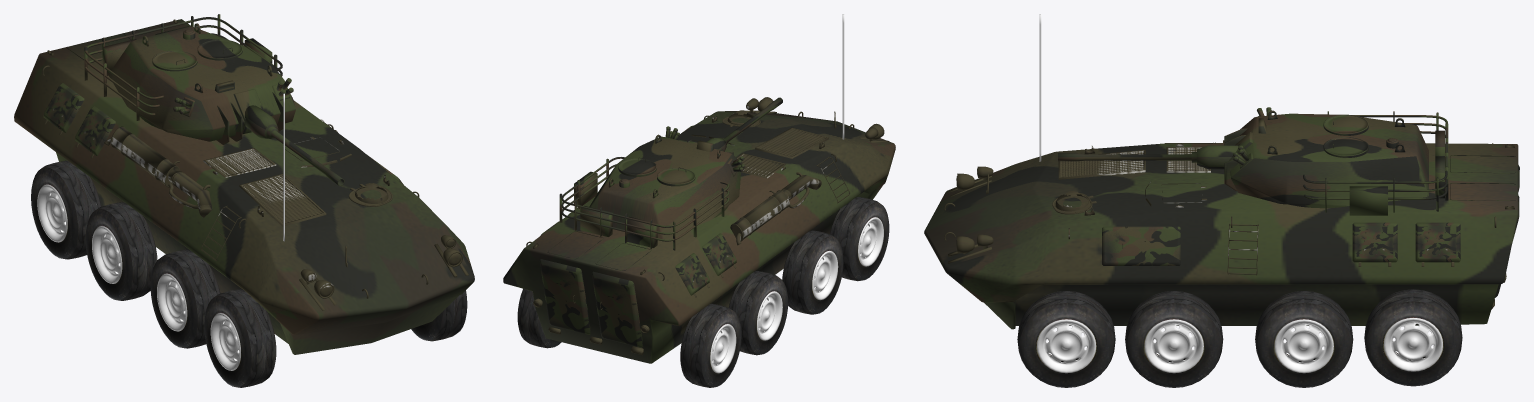
The model's file is lav-25.fbx.
3 views of the same model, side by side, from view 1: azimuth 30°, elevation 25°; view 2: azimuth 150°, elevation 25°; view 3: azimuth 270°, elevation 25° (orthographic). The views are drawn at different scales.
Visible parts, largest first — view 1: chassis-rb-convexhull, chassis_detail, turret-rb-convexhull-hinge, turret_detail, rtire_0-rb-chamferedCylinder-wheel, rtire_2-rb-chamferedCylinder-wheel, rtire_3-rb-chamferedCylinder-wheel, rtire_1-rb-chamferedCylinder-wheel, canon-rb-convexhull-hinge, ltire_0-rb-chamferedCylinder-wheel; view 2: chassis-rb-convexhull, chassis_detail, turret-rb-convexhull-hinge, turret_detail, rtire_3-rb-chamferedCylinder-wheel, rtire_1-rb-chamferedCylinder-wheel, rtire_2-rb-chamferedCylinder-wheel, rtire_0-rb-chamferedCylinder-wheel, ltire_3-rb-chamferedCylinder-wheel, canon-rb-convexhull-hinge, antena; view 3: chassis-rb-convexhull, turret-rb-convexhull-hinge, chassis_detail, ltire_3-rb-chamferedCylinder-wheel, ltire_0-rb-chamferedCylinder-wheel, ltire_2-rb-chamferedCylinder-wheel, ltire_1-rb-chamferedCylinder-wheel, turret_detail, canon-rb-convexhull-hinge.
Part boxes in pixels (x1=…): chassis-rb-convexhull: x1=14, y1=19, x2=474, y2=354; chassis_detail: x1=42, y1=19, x2=468, y2=310; turret-rb-convexhull-hinge: x1=108, y1=26, x2=295, y2=141; turret_detail: x1=84, y1=14, x2=293, y2=144; rtire_0-rb-chamferedCylinder-wheel: x1=204, y1=289, x2=276, y2=387; rtire_2-rb-chamferedCylinder-wheel: x1=85, y1=202, x2=157, y2=300; rtire_3-rb-chamferedCylinder-wheel: x1=31, y1=160, x2=101, y2=259; rtire_1-rb-chamferedCylinder-wheel: x1=150, y1=249, x2=220, y2=348; canon-rb-convexhull-hinge: x1=244, y1=105, x2=344, y2=185; ltire_0-rb-chamferedCylinder-wheel: x1=411, y1=290, x2=467, y2=341; chassis-rb-convexhull: x1=503, y1=111, x2=895, y2=363; chassis_detail: x1=526, y1=97, x2=889, y2=355; turret-rb-convexhull-hinge: x1=589, y1=136, x2=741, y2=239; turret_detail: x1=559, y1=126, x2=745, y2=250; rtire_3-rb-chamferedCylinder-wheel: x1=680, y1=303, x2=741, y2=387; rtire_1-rb-chamferedCylinder-wheel: x1=782, y1=230, x2=843, y2=314; rtire_2-rb-chamferedCylinder-wheel: x1=729, y1=271, x2=788, y2=355; rtire_0-rb-chamferedCylinder-wheel: x1=830, y1=197, x2=889, y2=281; ltire_3-rb-chamferedCylinder-wheel: x1=517, y1=288, x2=561, y2=348; canon-rb-convexhull-hinge: x1=707, y1=97, x2=782, y2=151; antena: x1=842, y1=14, x2=844, y2=139; chassis-rb-convexhull: x1=924, y1=143, x2=1518, y2=329; turret-rb-convexhull-hinge: x1=1228, y1=113, x2=1428, y2=205; chassis_detail: x1=944, y1=140, x2=1519, y2=309; ltire_3-rb-chamferedCylinder-wheel: x1=1364, y1=289, x2=1462, y2=386; ltire_0-rb-chamferedCylinder-wheel: x1=1017, y1=291, x2=1115, y2=387; ltire_2-rb-chamferedCylinder-wheel: x1=1255, y1=291, x2=1353, y2=387; ltire_1-rb-chamferedCylinder-wheel: x1=1125, y1=291, x2=1223, y2=387; turret_detail: x1=1224, y1=107, x2=1448, y2=215; canon-rb-convexhull-hinge: x1=1058, y1=145, x2=1238, y2=169.
Size of the model in its own units: 265 by 334 by 618.
Materials: 22 (22 with a texture image).
